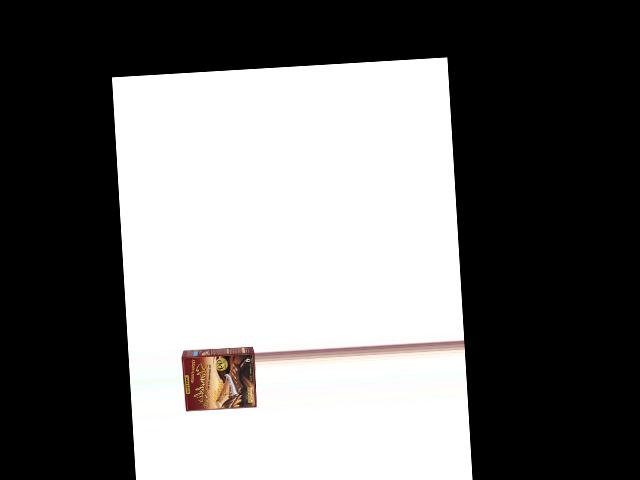chocolate: (180, 342, 258, 418)
